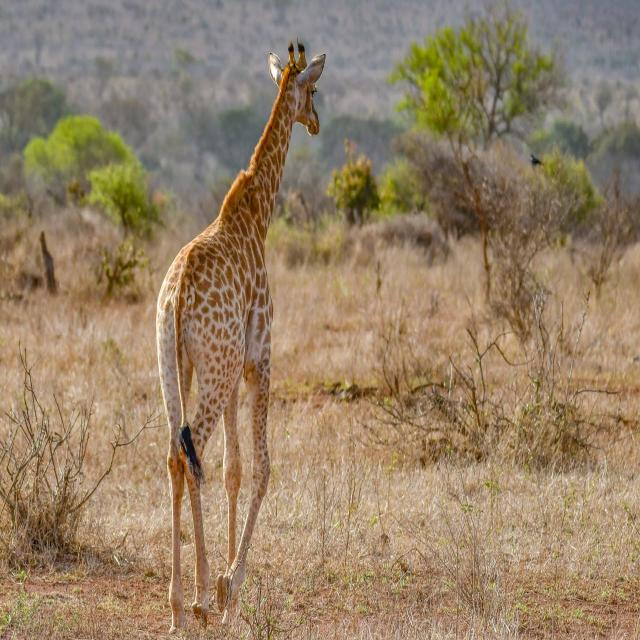Giraffe: (154, 38, 327, 640)
